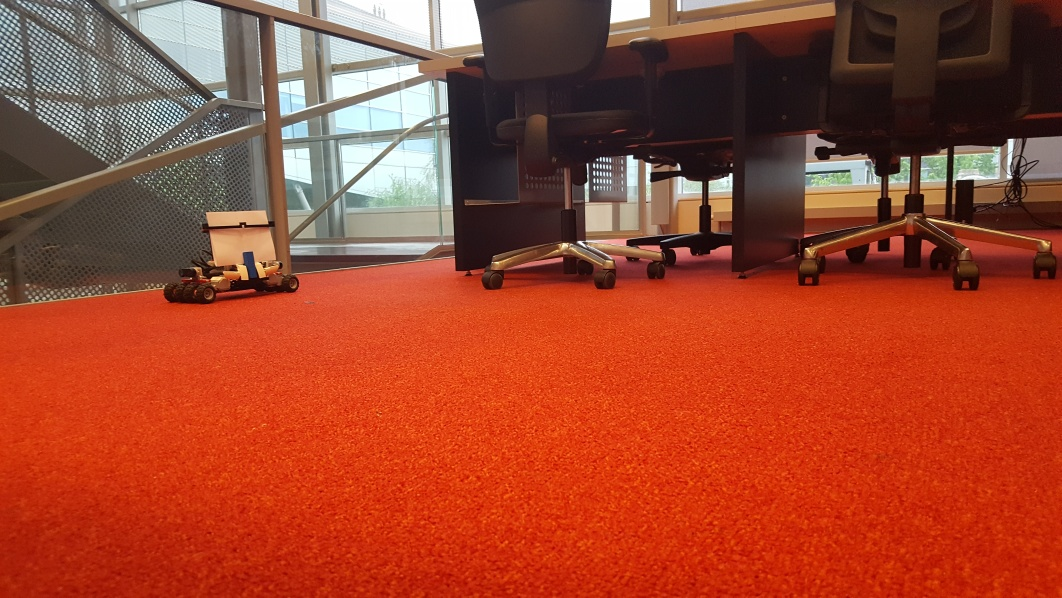car: (161, 209, 300, 306)
